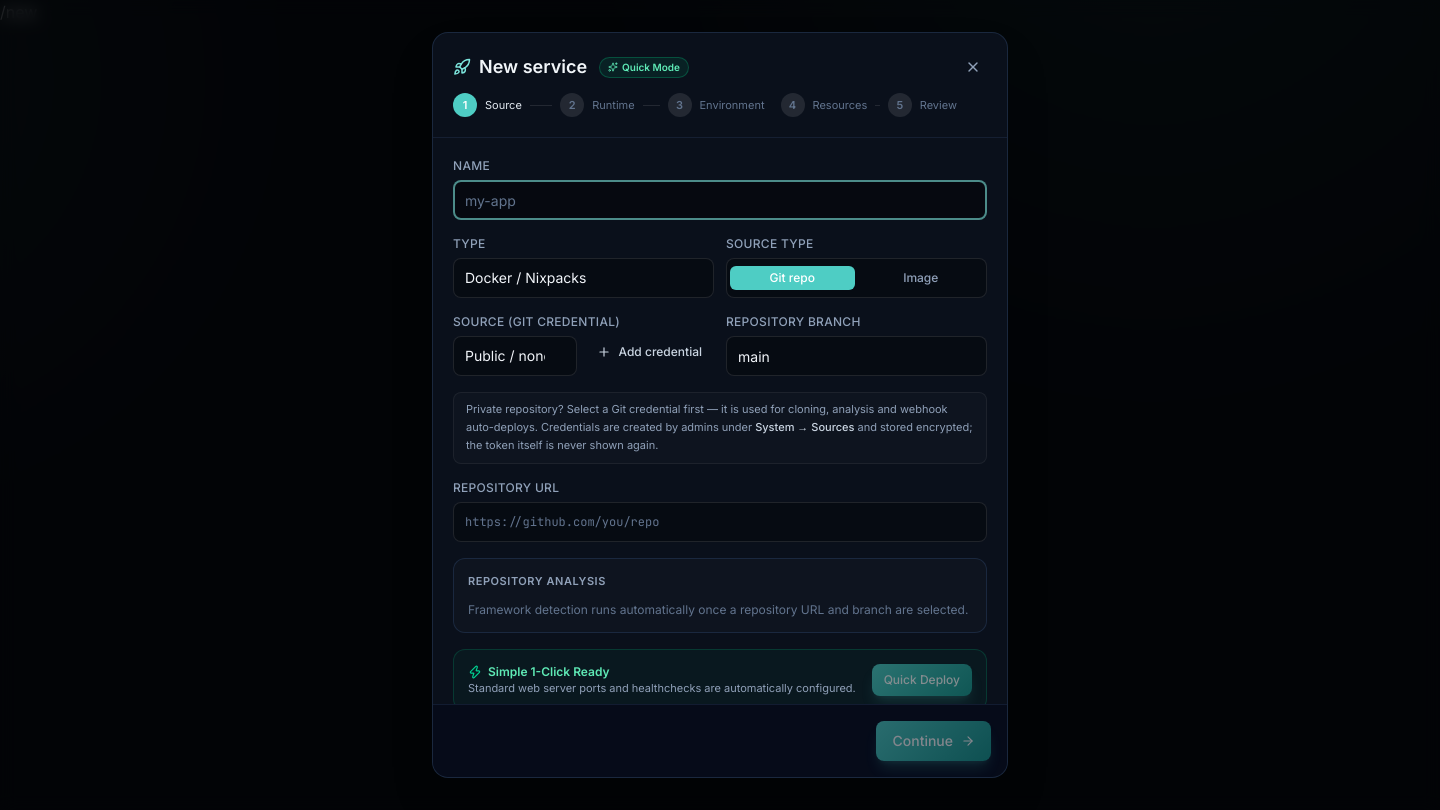
Test case: DeployWizard › shows the default limits label when no limits are set
Type "app" into the field with placeholder "my-app". click: point(720, 200)
box: [453,180,987,220]
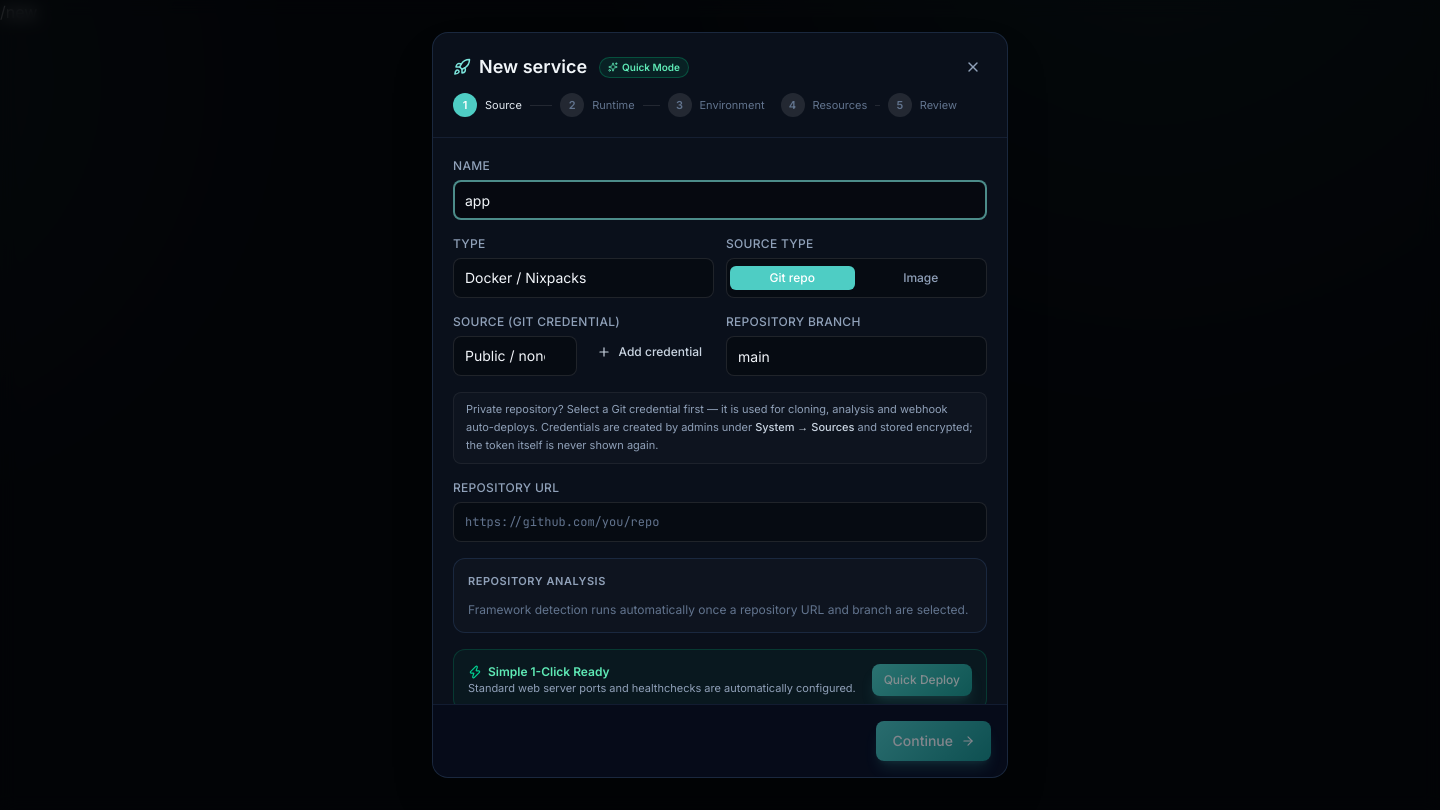
Type "https://github.com/x/y" into the field with placeholder "https://github.com/you/repo". click: point(720, 522)
box: [453,502,987,542]
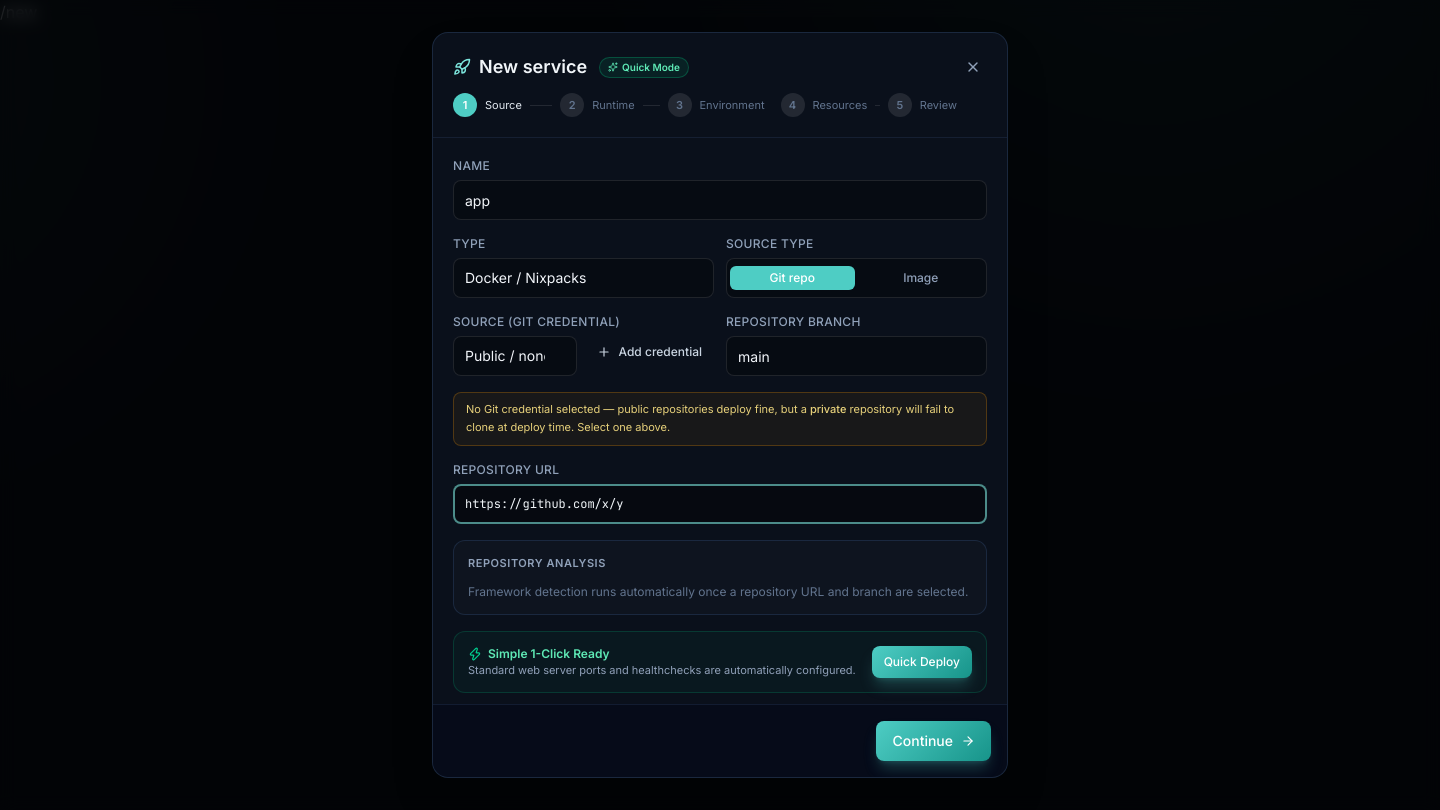
Click the button "Continue". click: point(934, 741)
box: [876,721,991,761]
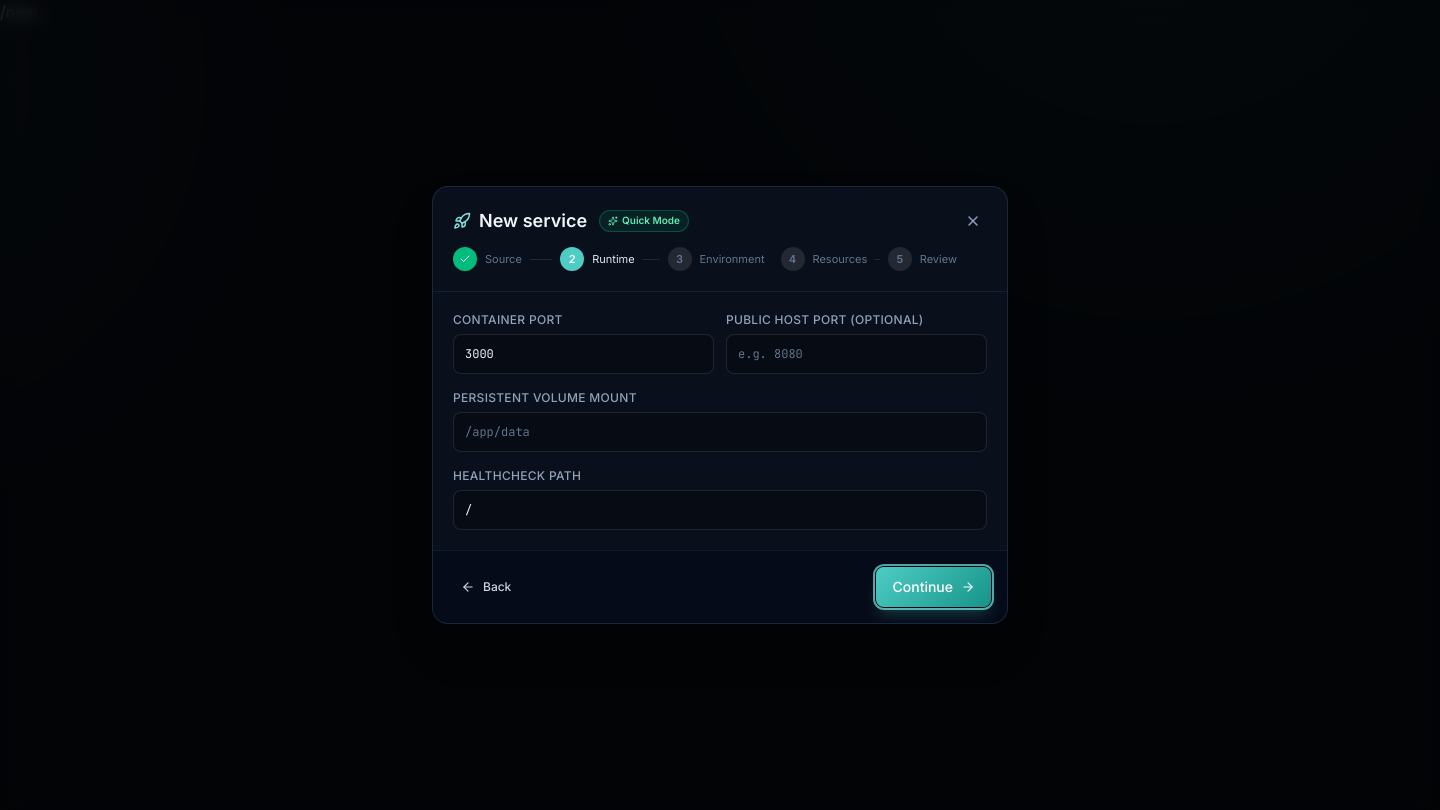
Click the button "Continue". click: point(934, 587)
box: [876,567,991,607]
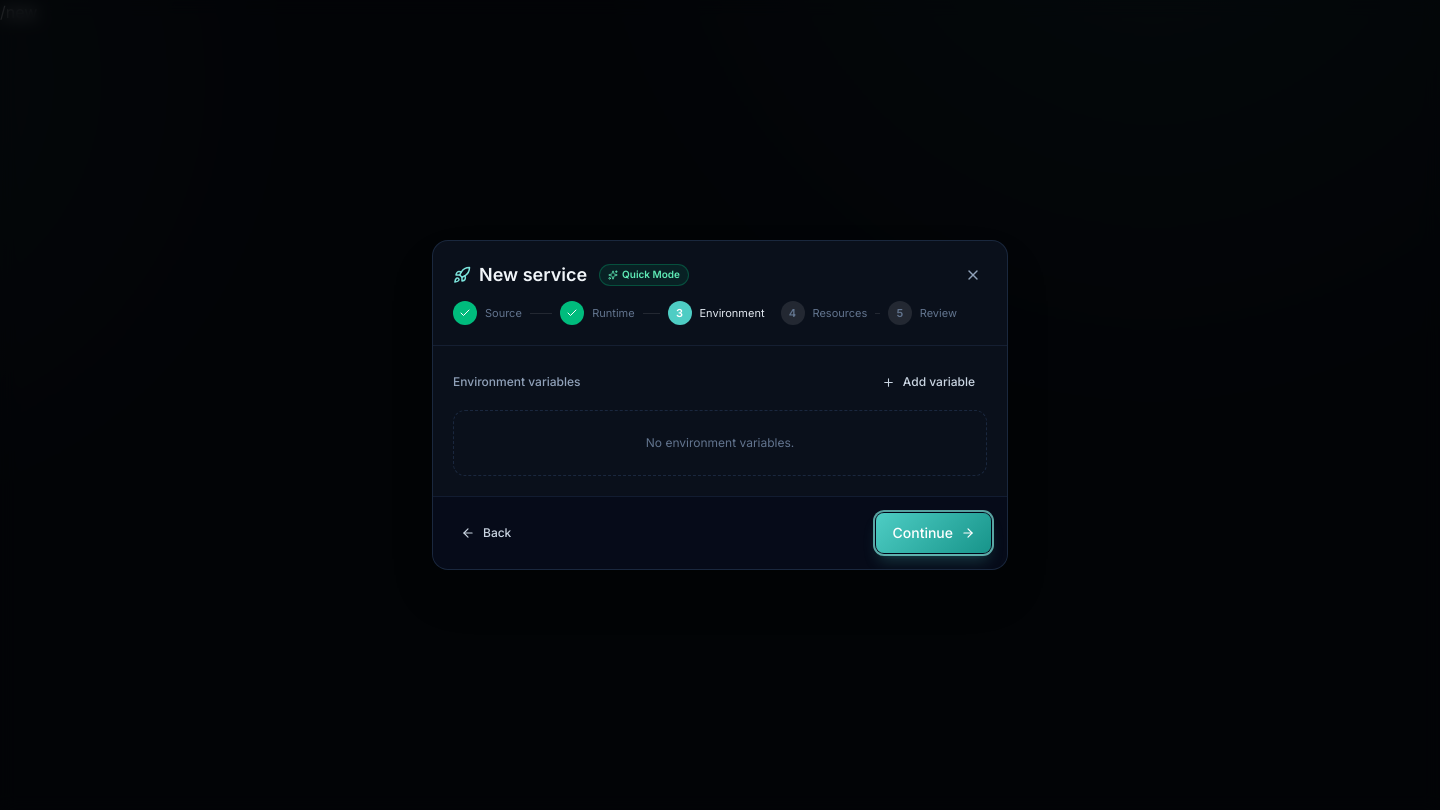
Click the button "Continue". click: point(934, 533)
box: [876,513,991,553]
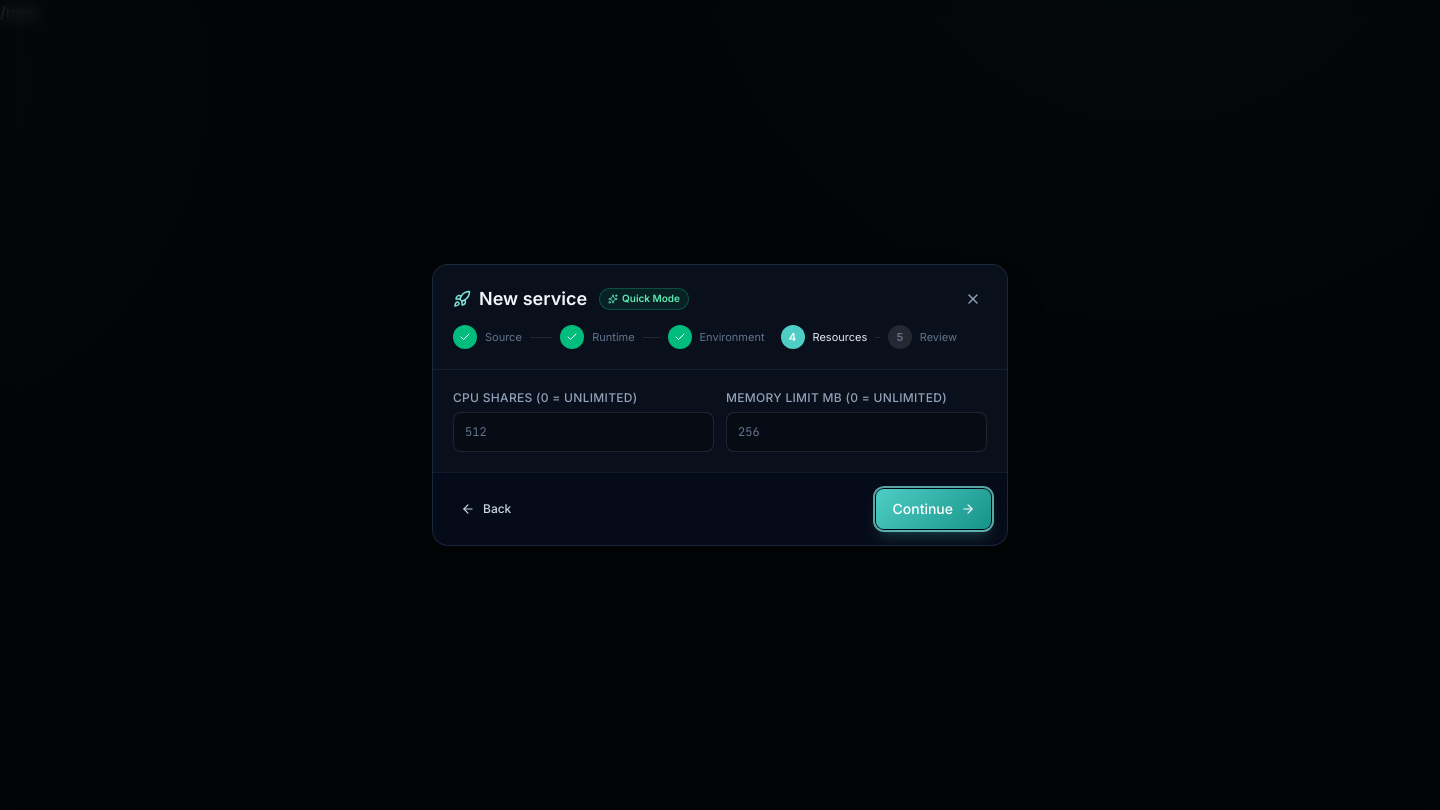
Click the button "Continue". click: point(934, 509)
box: [876,489,991,529]
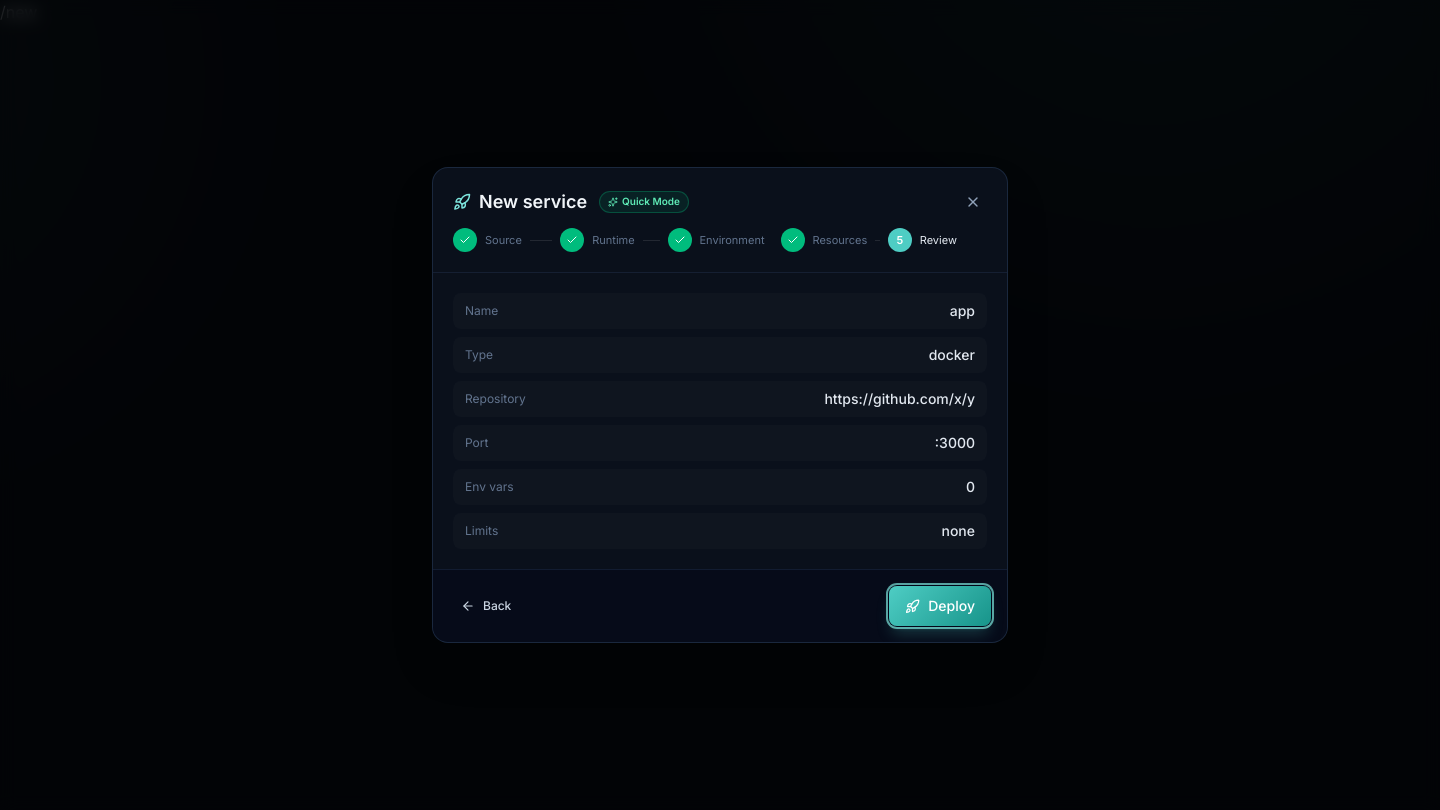
Check: the text "Review" is shown, box [920,232,957,248]
Check: the text "none" is shown, box [942,521,975,541]
